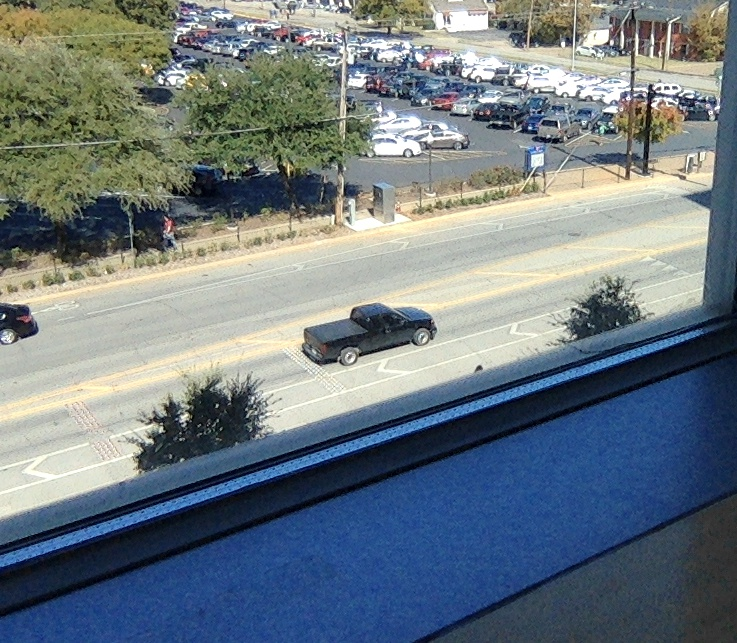car: (300, 300, 437, 367)
